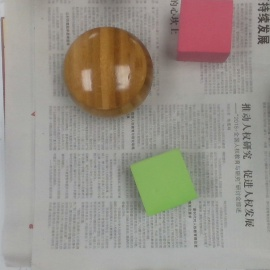chess: (62, 26, 154, 120)
